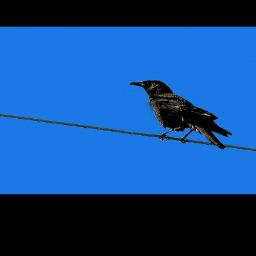Crow: (125, 79, 234, 149)
